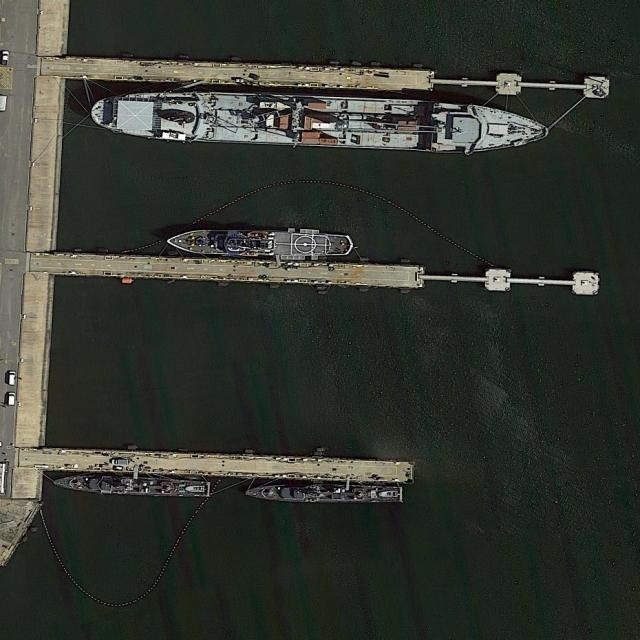Cargo: (89, 85, 551, 158)
Dock: (53, 251, 598, 294), (62, 55, 608, 96), (44, 446, 413, 483)
Other Warship: (166, 226, 353, 262), (52, 471, 214, 498), (243, 482, 405, 503)
